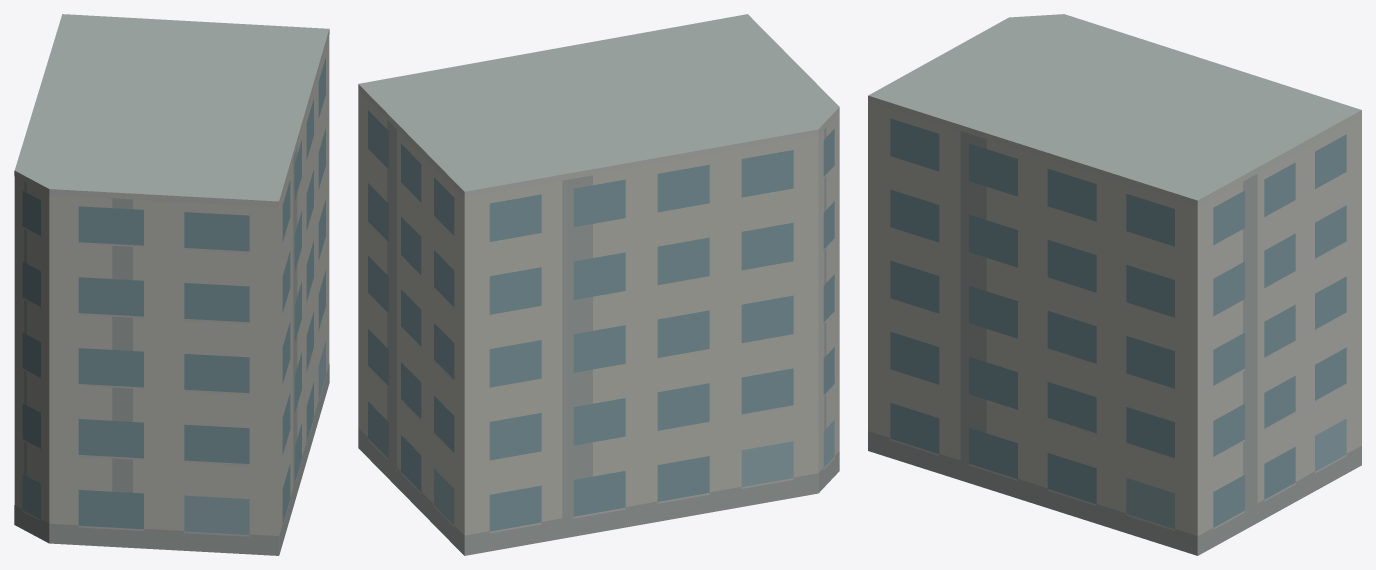
The model's file is survey-upis-32890966.glb.
3 views of the same model, side by side, from view 1: azimuth 30°, elevation 25°; view 2: azimuth 150°, elevation 25°; view 3: azimuth 270°, elevation 25° (orthographic). The views are drawn at different scales.
Parts seen in each view (by area): view 1: survey-upis-32890966.tmp; view 2: survey-upis-32890966.tmp; view 3: survey-upis-32890966.tmp.
Boxes of the visible parts, box(x1,y1,x2,y2) form: survey-upis-32890966.tmp: box(14, 14, 329, 555); survey-upis-32890966.tmp: box(358, 14, 839, 555); survey-upis-32890966.tmp: box(868, 14, 1361, 555).
Bounding box in the file's own units: 16.34 × 14.5 × 18.27.
